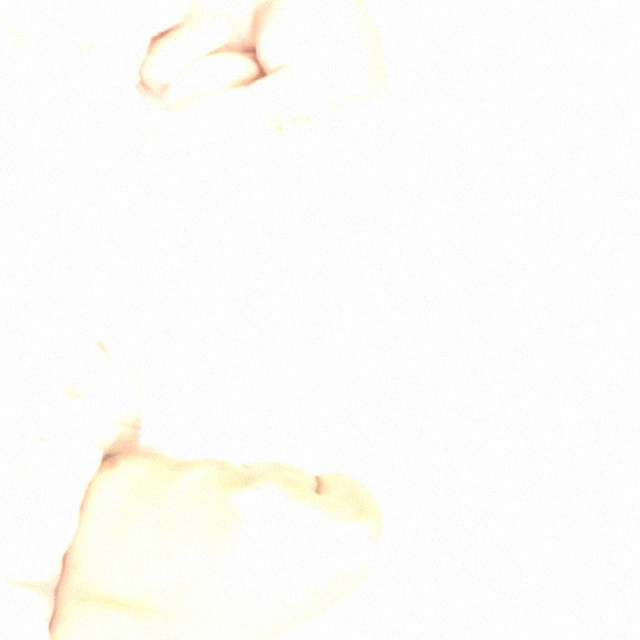Rock: (60, 418, 403, 640)
Scissors: (90, 0, 474, 330)
